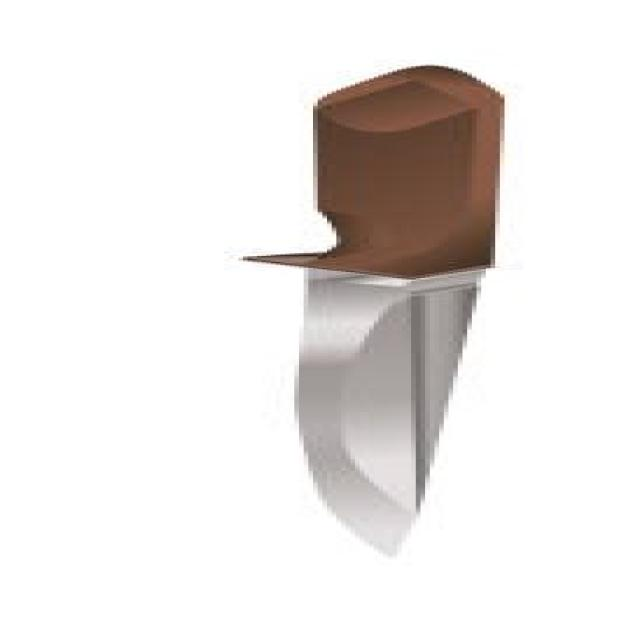knife: (244, 57, 495, 564)
